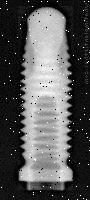Neodent: (18, 6, 73, 190)
